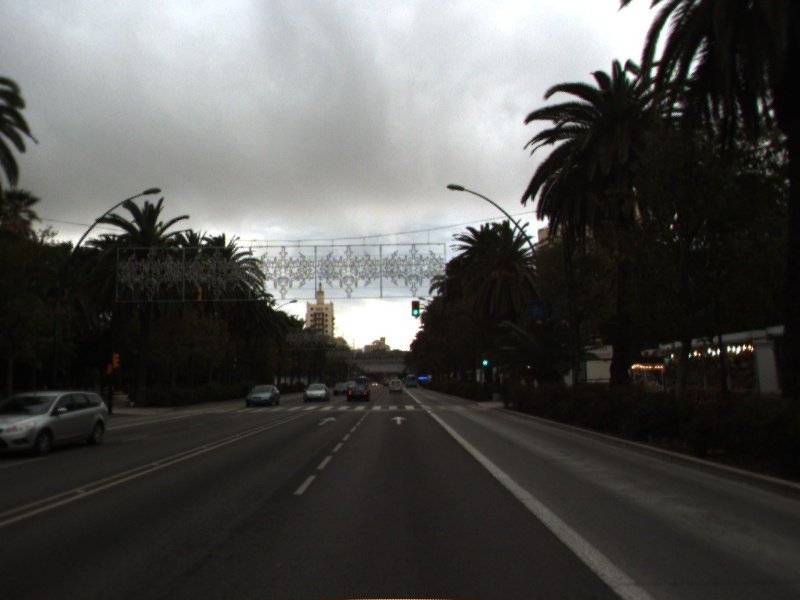STRAIGHT: (316, 414, 339, 427), (389, 414, 409, 426)
